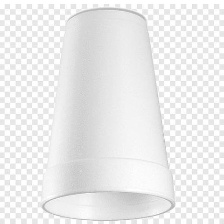glass: (37, 3, 179, 222)
